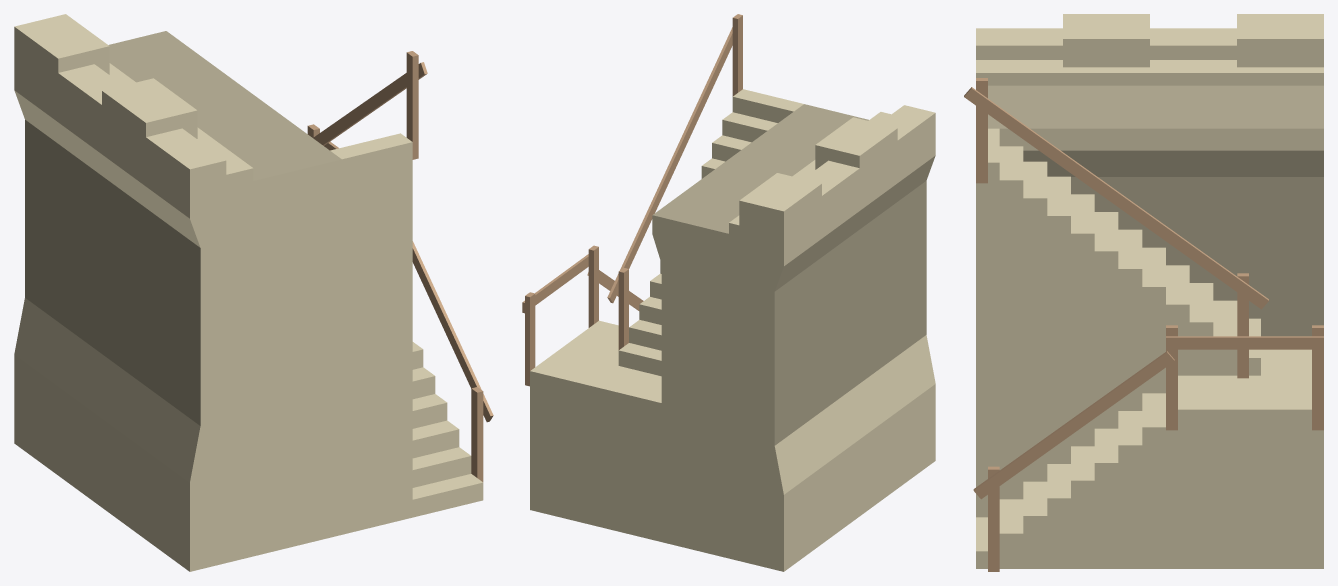
Rendered from wallNarrowStairsFence.fbx.
3 views of the same model, side by side, from view 1: azimuth 30°, elevation 25°; view 2: azimuth 150°, elevation 25°; view 3: azimuth 270°, elevation 25° (orthographic). The views are drawn at different scales.
Parts seen in each view (by area): view 1: wallNarrowStairsFence, rail 8; view 2: wallNarrowStairsFence, rail 8; view 3: wallNarrowStairsFence, rail 8.
Part boxes in pixels (bbox=[...]): wallNarrowStairsFence: bbox=[14, 14, 483, 571]; rail 8: bbox=[307, 51, 493, 481]; wallNarrowStairsFence: bbox=[530, 89, 935, 571]; rail 8: bbox=[522, 14, 742, 386]; wallNarrowStairsFence: bbox=[976, 14, 1323, 568]; rail 8: bbox=[964, 78, 1323, 571].
Bounding box in the file's own units: 9.95 × 14.48 × 10.34.
